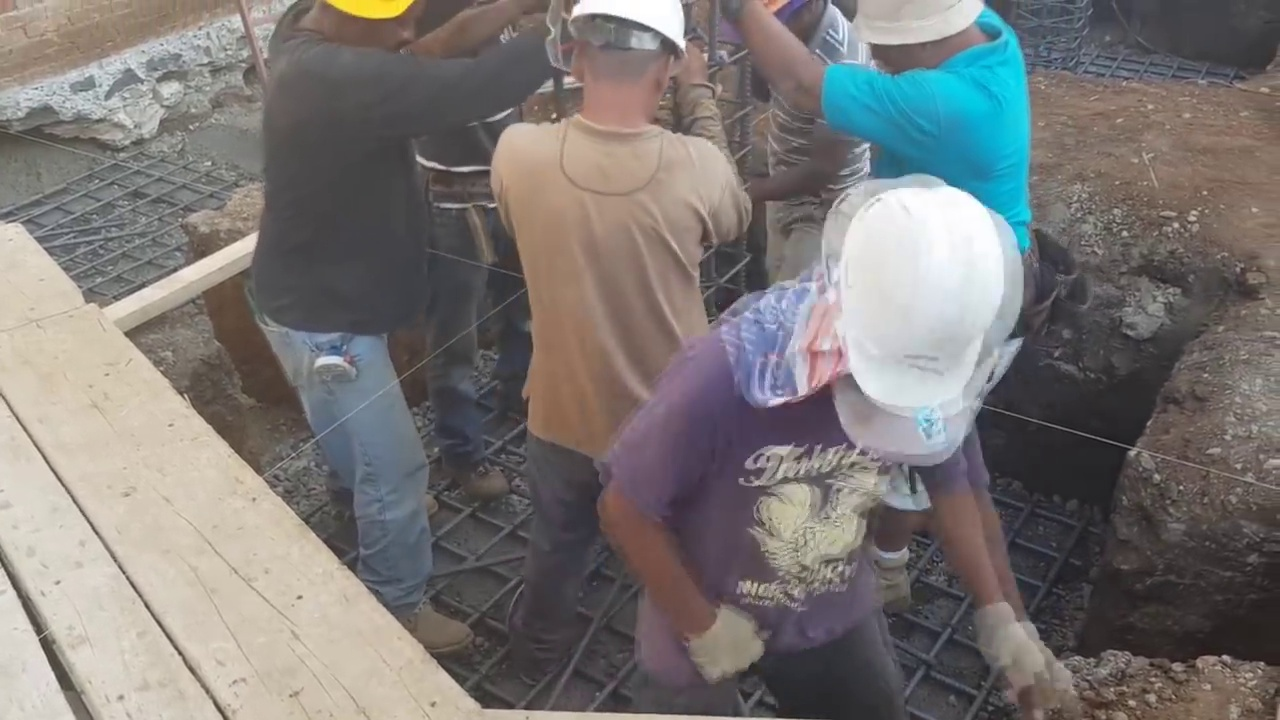helmet: (838, 184, 1005, 410), (567, 0, 688, 66)
helmet-off: (861, 4, 996, 76), (740, 1, 841, 47)
helmet-on: (766, 185, 1035, 462), (553, 3, 699, 137)
person: (637, 183, 1025, 720), (238, 0, 543, 648), (486, 8, 761, 674), (737, 16, 1025, 394), (749, 2, 869, 282)
